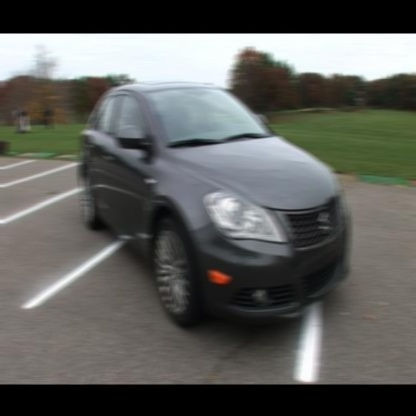Vehicle: (74, 78, 354, 334)
